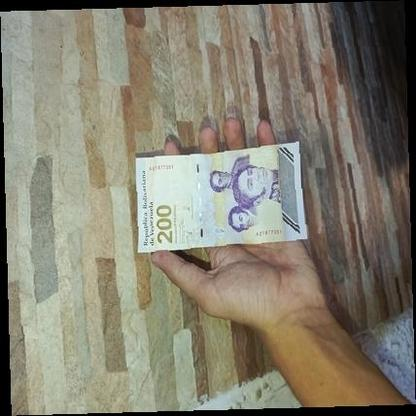two_hundred-front-vef: (136, 140, 308, 254)
